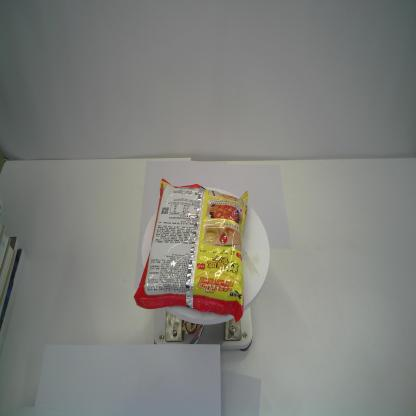Instant Noodles: (132, 177, 250, 323)
